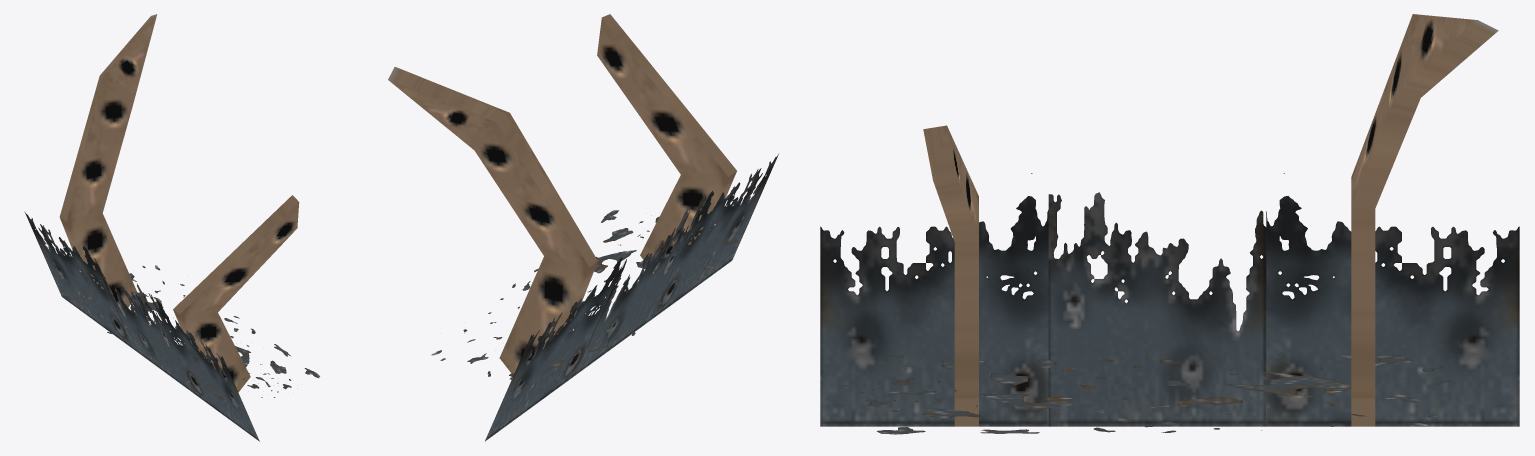
The model's file is crashrib_dam.glb.
The picture shows the model from 3 angles, left to right: view 1: azimuth 30°, elevation 25°; view 2: azimuth 150°, elevation 25°; view 3: azimuth 270°, elevation 25°; orthographic projection. The views are drawn at different scales.
Parts seen in each view (by area): view 1: Crash Rib; view 2: Crash Rib; view 3: Crash Rib.
Boxes of the visible parts, box(x1,y1,x2,y2) form: Crash Rib: box(24, 14, 319, 441); Crash Rib: box(388, 14, 778, 441); Crash Rib: box(820, 14, 1519, 434).
Size of the model in its own units: 8.25 by 15.87 by 21.05.
3 materials, 3 textured.
